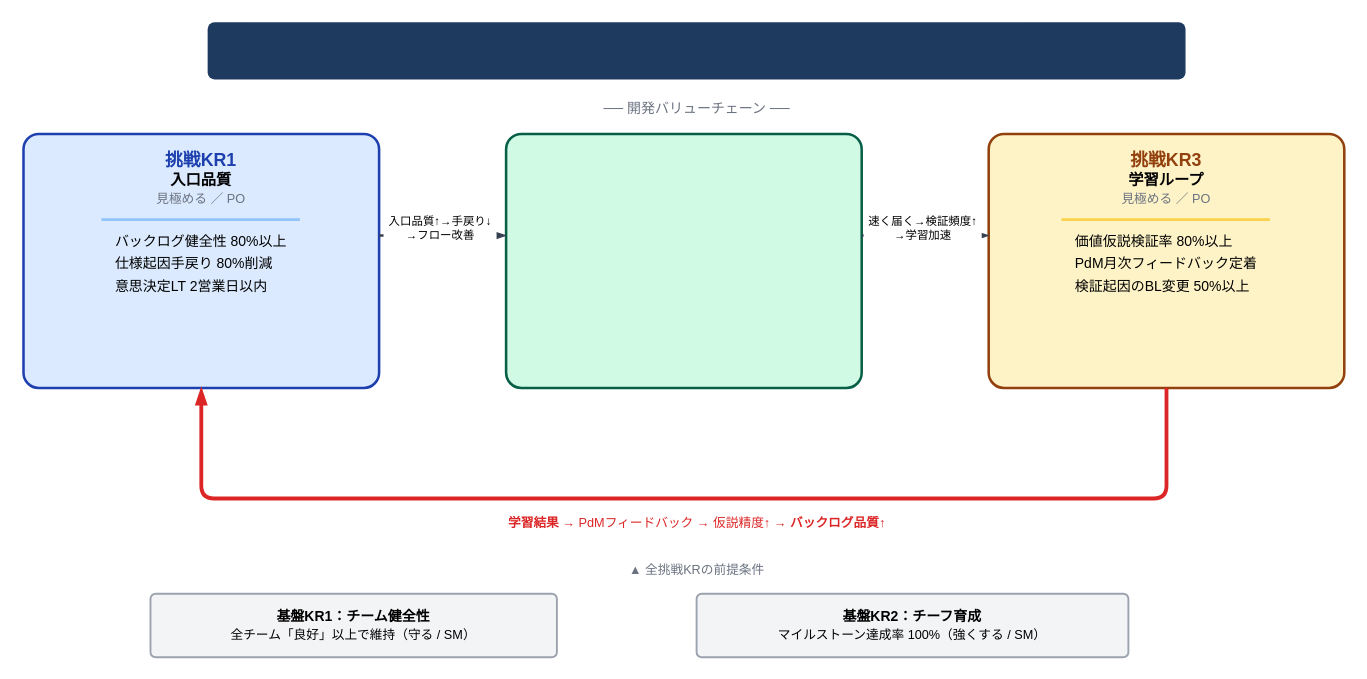
This 1367x679 diagram has some shape labels left out. Here are the shapes that lost their labels. From the top down, the centre of each, then its label:
pixel 696 50: O: 投資が最短・最確実に顧客価値へ変換されるデリバリーラインを確立する
pixel 683 260: 挑戦KR2 フロー効率 速くする ／ SM + PO サイクルタイム 50%短縮 ゴール達成率 80%以上 リリース予測精度 ±3日
